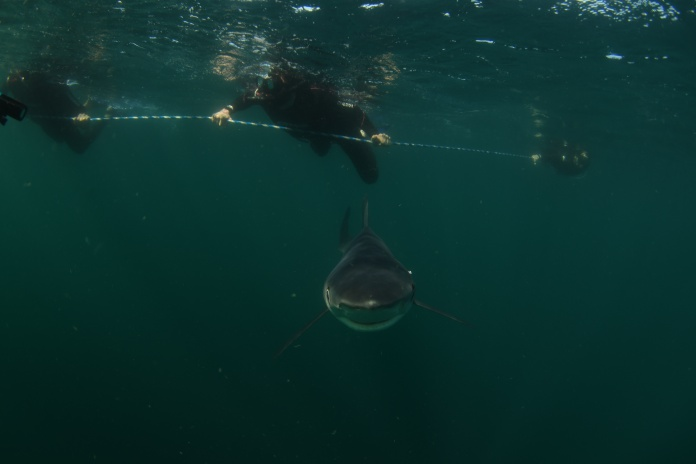Mako: (270, 190, 489, 373)
